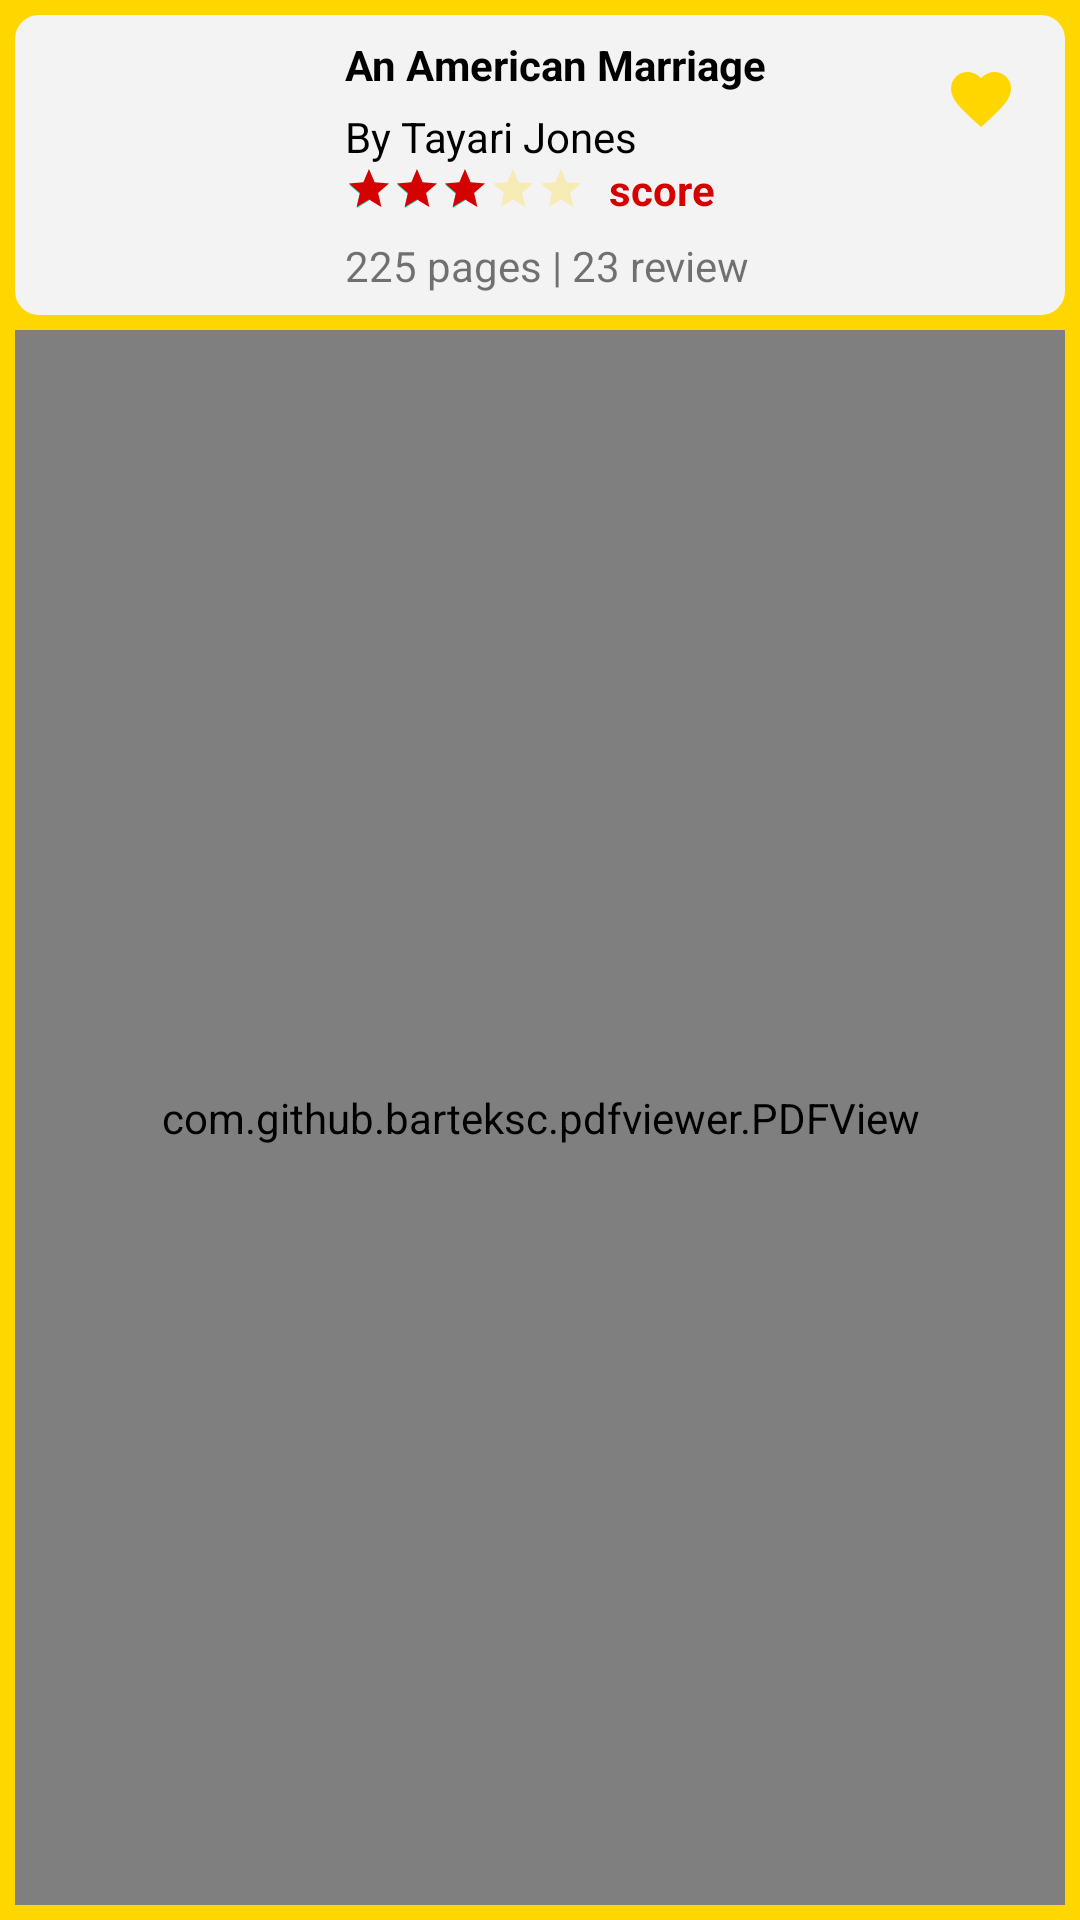

Named icons in this screenshot (1080px×1920px) and their centers, (x=x, y=y):
favorite: (x=981, y=99)
